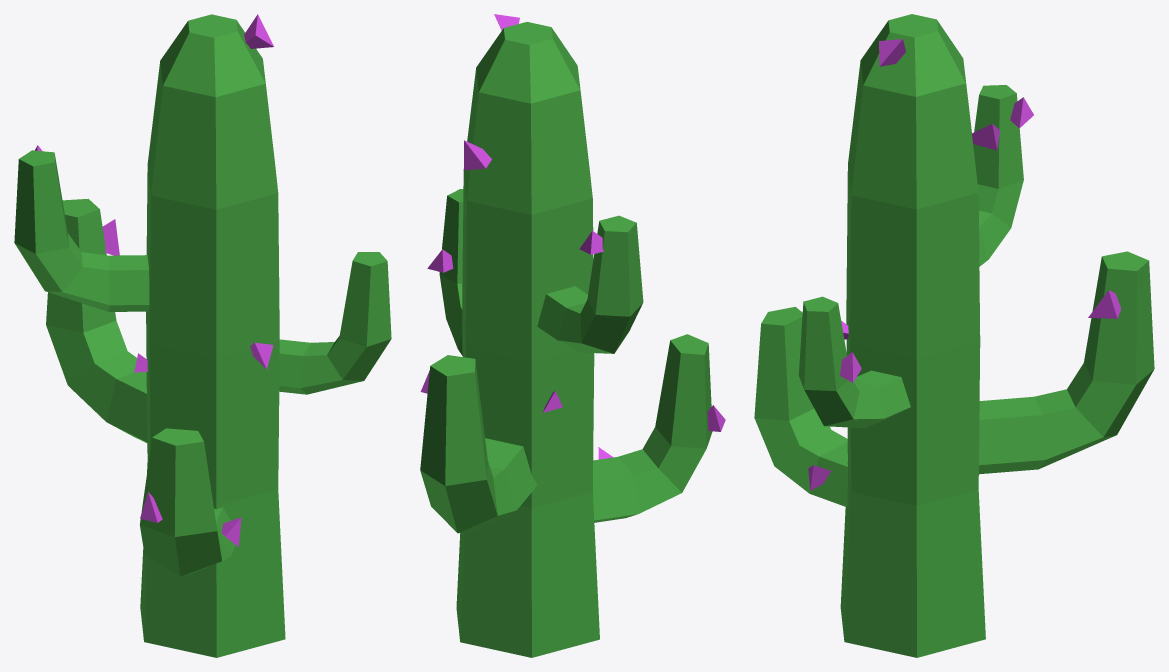
Rendered from Cactus_9.fbx.
3 renders of one model, left to right at view 1: azimuth 30°, elevation 25°; view 2: azimuth 150°, elevation 25°; view 3: azimuth 270°, elevation 25°, orthographic.
Visible parts, largest first — view 1: Cactus, Arm.001, Arm.003, Arm, Arm.002, Flower.008; view 2: Cactus, Arm.003, Arm, Arm.001, Arm.002, Flower.005; view 3: Cactus, Arm.003, Arm, Arm.002, Arm.001, Flower.008, Flower.004.
Part boxes in pixels (x1,y1,x2,y2): Cactus: (140, 14, 285, 657); Arm.001: (14, 150, 149, 311); Arm.003: (46, 198, 147, 442); Arm: (140, 428, 235, 576); Arm.002: (279, 252, 391, 394); Flower.008: (244, 14, 273, 48); Cactus: (456, 22, 599, 657); Arm.003: (420, 355, 537, 533); Arm: (593, 334, 712, 522); Arm.001: (537, 215, 643, 353); Arm.002: (439, 189, 463, 355); Flower.005: (464, 140, 491, 170); Cactus: (840, 14, 985, 657); Arm.003: (979, 251, 1154, 474); Arm: (754, 306, 847, 507); Arm.002: (798, 296, 910, 428); Arm.001: (973, 85, 1023, 266); Flower.008: (879, 39, 905, 66); Flower.004: (1088, 290, 1120, 318).
Bounding box in the file's own units: 71.59 × 146 × 87.56.
